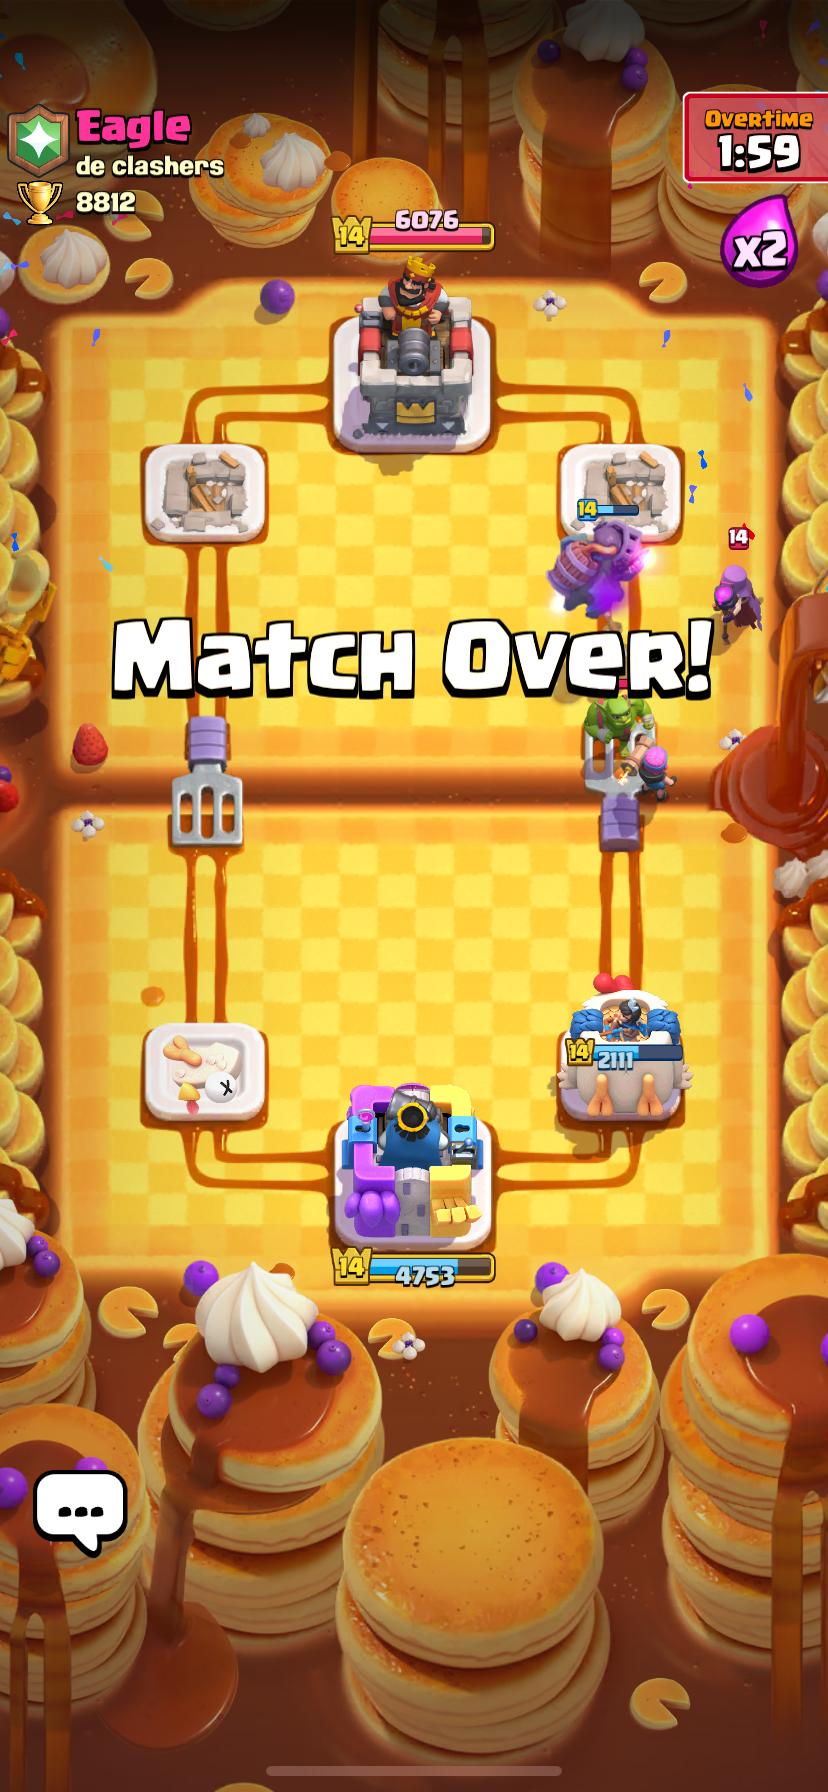EBrawler: (584, 693, 654, 753)
EKingTower: (334, 251, 477, 447)
EMotherWitch: (714, 566, 761, 645)
OFirecrack: (622, 735, 675, 801)
OInfernoDrag: (548, 519, 646, 616)
OwnKingTower: (334, 1083, 492, 1255)
OwnPrincessTower: (558, 976, 692, 1125)
TowerDown: (142, 1021, 268, 1125), (559, 443, 683, 546), (144, 443, 266, 545)
